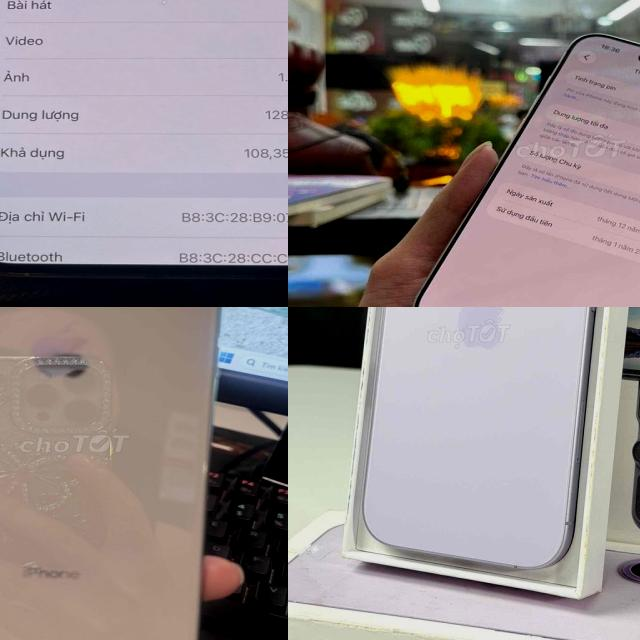gen_14: (0, 0, 288, 275)
gen_17: (361, 307, 615, 576), (412, 15, 640, 307)
gen_x_xs: (0, 307, 232, 640)
